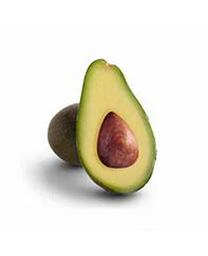avocado: (74, 58, 159, 198)
